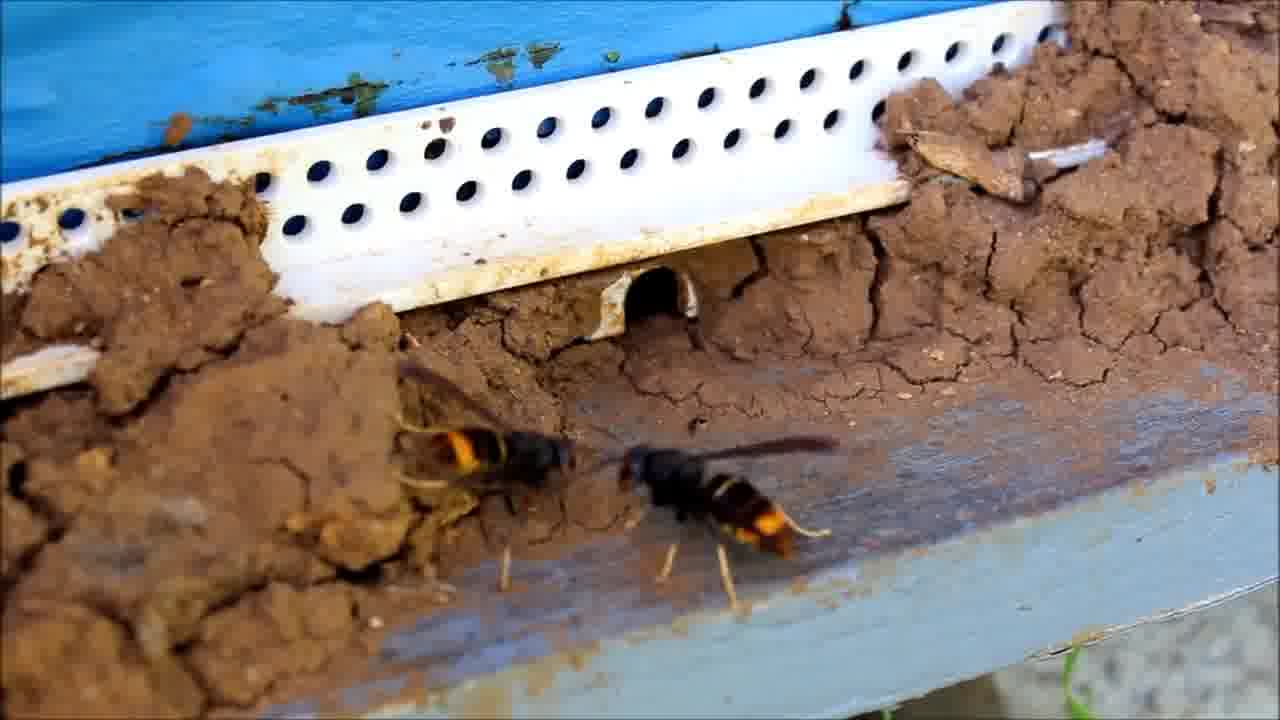hornet: (608, 432, 854, 587), (389, 360, 590, 533)
